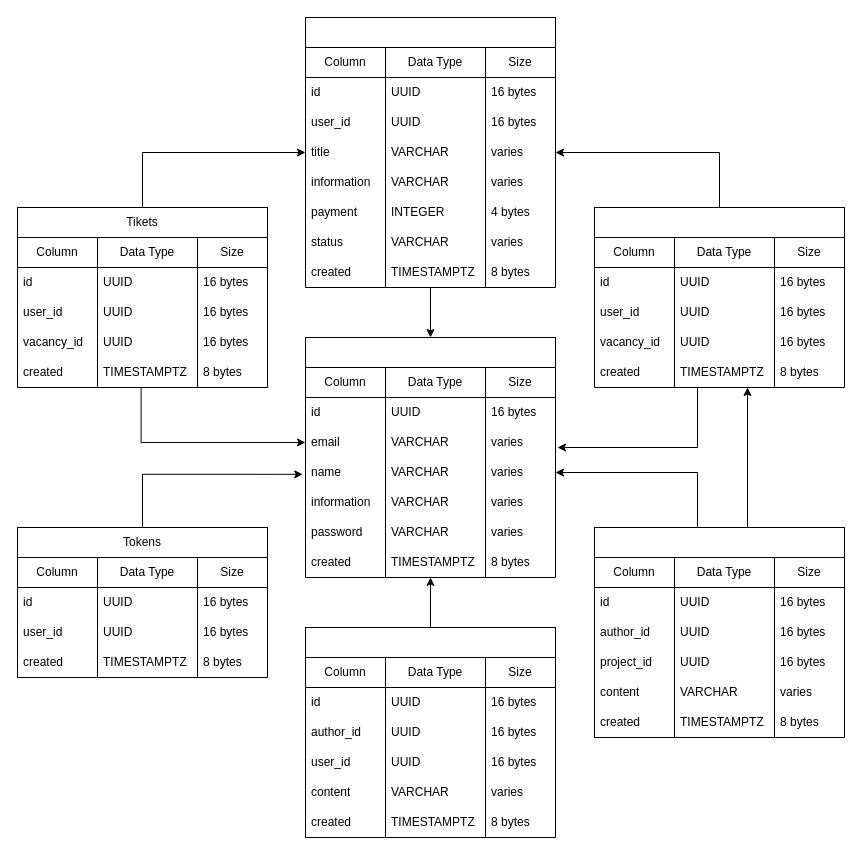
Image size: 862x855. Some labels were removed from this diagram. The shapes that lost their labels are listed below. From the top down, each one's centre as x and y in pixels, then its label:
At (x=430, y=32): "Vacancies".
At (x=719, y=222): "Projects".
At (x=430, y=352): "Users".
At (x=719, y=542): "Messages".
At (x=430, y=642): "Comments".
